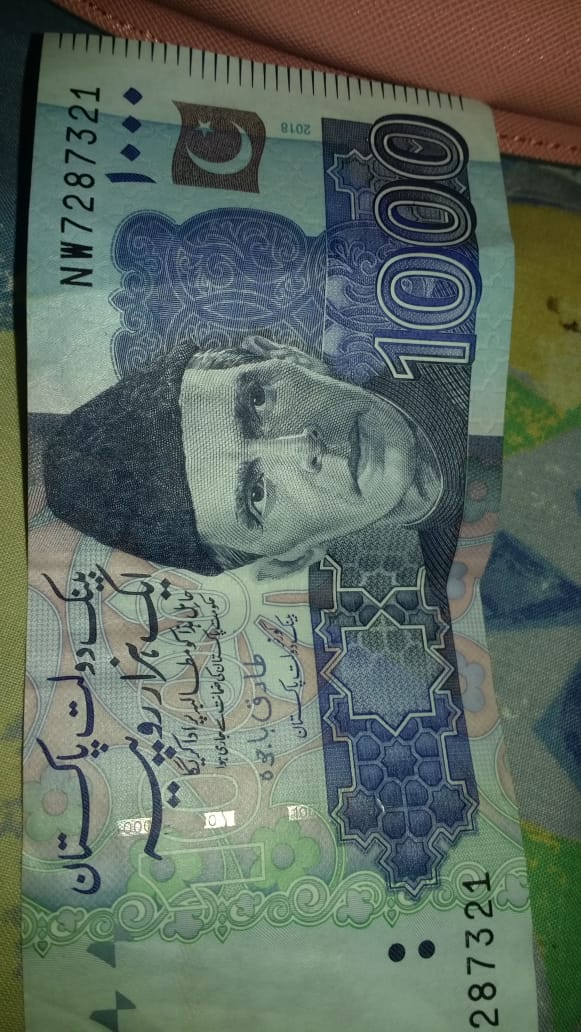1000 rupee: (7, 18, 563, 1032)
